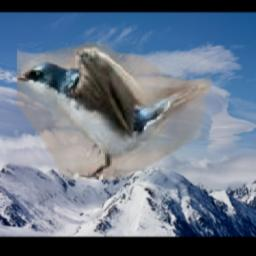Swallow: (17, 43, 211, 181)
